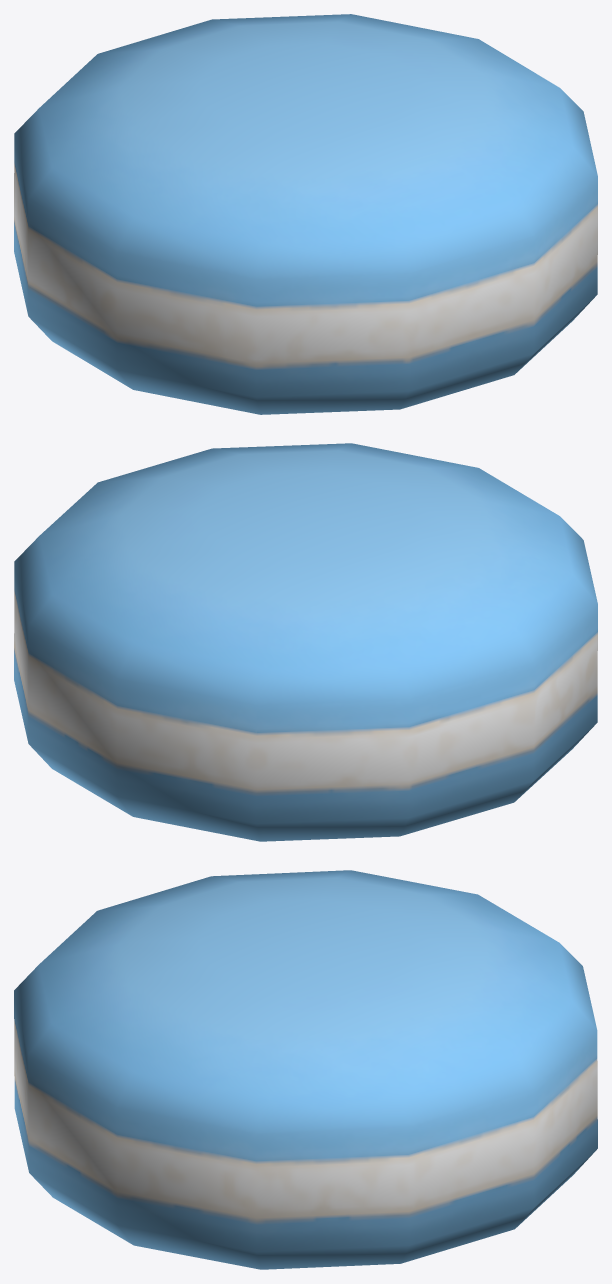
Rendered from BuffetDesserts02_6.FBX.
3 views of the same model, one above another, from view 1: azimuth 30°, elevation 25°; view 2: azimuth 150°, elevation 25°; view 3: azimuth 270°, elevation 25° (orthographic).
Parts seen in each view (by area): view 1: BuffetDesserts02_6; view 2: BuffetDesserts02_6; view 3: BuffetDesserts02_6.
Part boxes in pixels (box(x1,y1,x2,y2)): BuffetDesserts02_6: box(14, 14, 597, 414); BuffetDesserts02_6: box(14, 443, 597, 841); BuffetDesserts02_6: box(14, 870, 597, 1269).
Size of what is drawn, in the model's own units: 0.1043 by 0.0504 by 0.1044.
